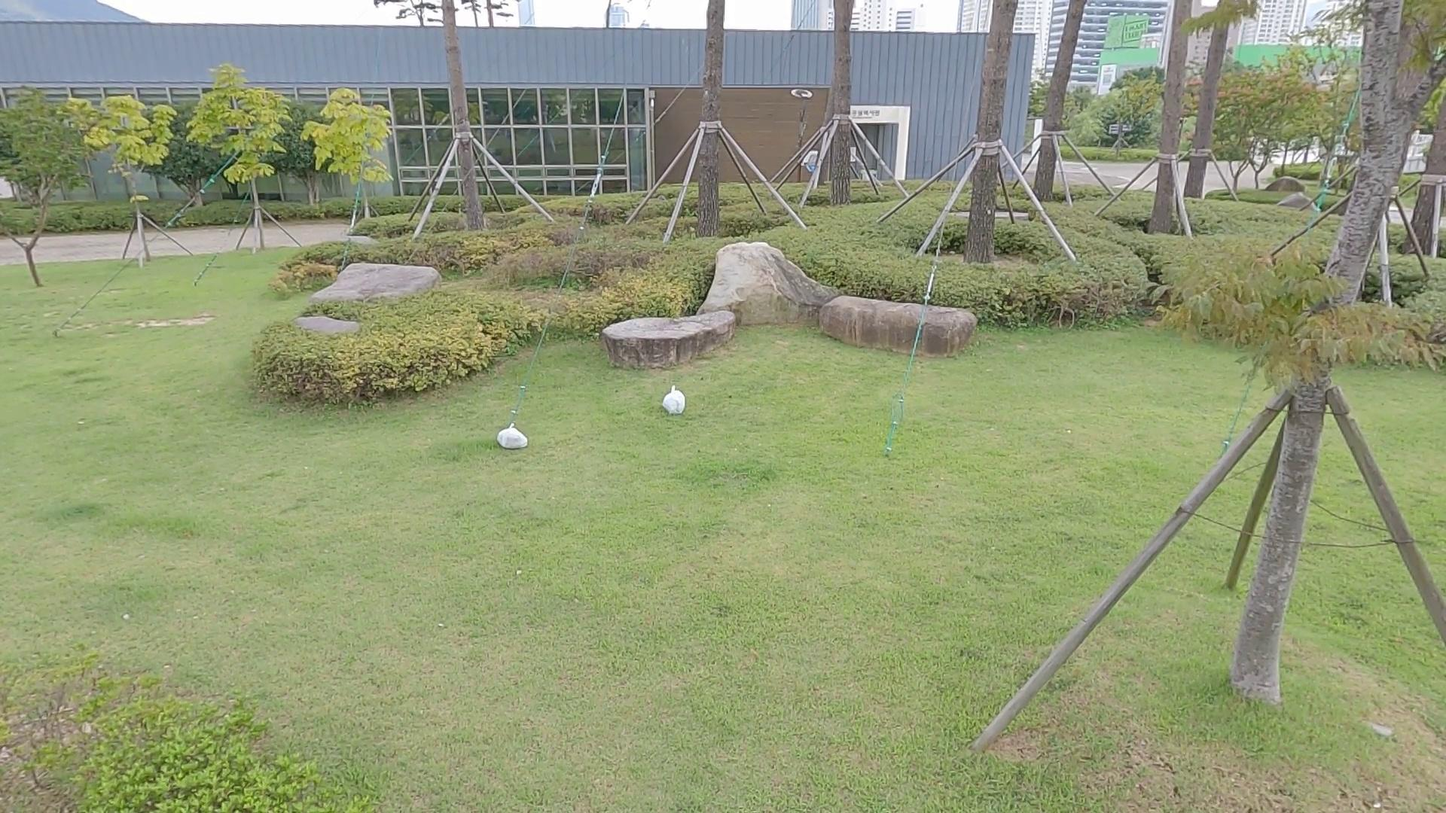trash: (660, 385, 688, 415), (498, 424, 530, 448)
